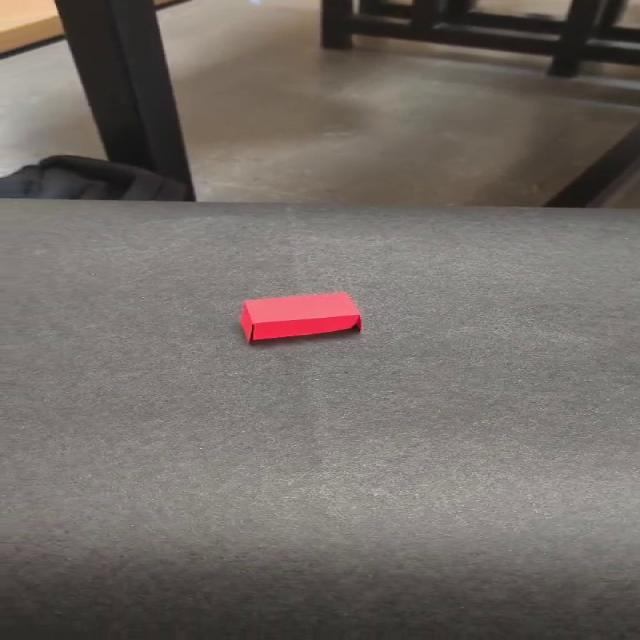red block: (237, 290, 363, 343)
